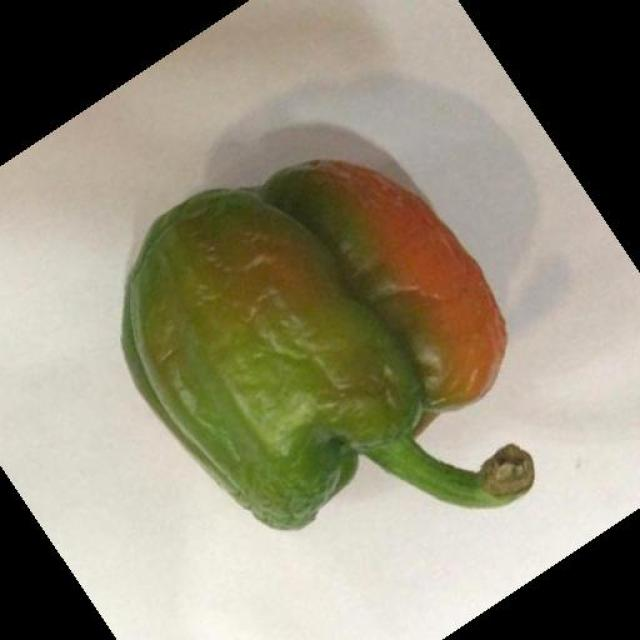Stale_Capsicum: (129, 142, 537, 515)
